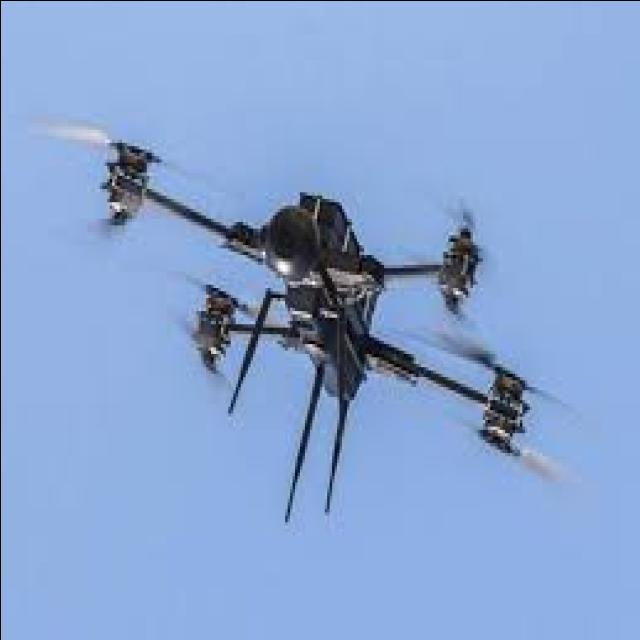drone: (34, 89, 602, 518)
